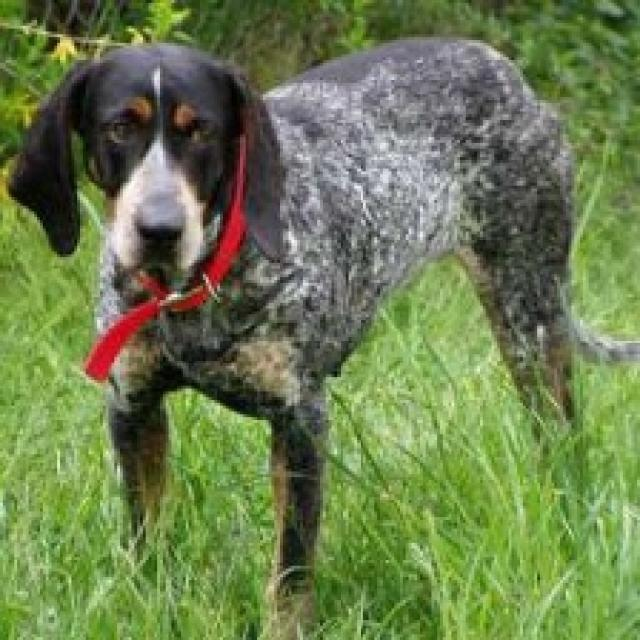cho khoe manh: (18, 10, 601, 542)
